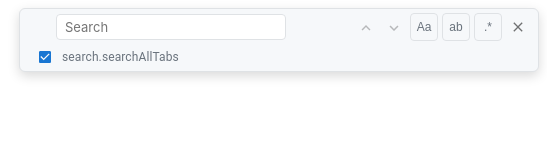
Scenario: SearchReplacePanel › T-SR-08: cross-tab search shows per-tab match counts
The image size is (547, 165).
Type "world" into the field with placeholder "Search" at (171, 27), box left=56, top=14, right=286, bottom=40
Wait 200 ms
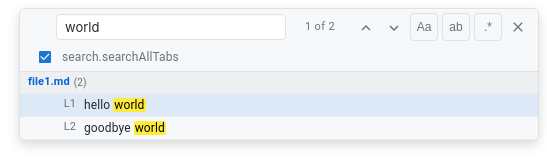
expect the text "1 of 2" is shown: met, box left=305, top=20, right=335, bottom=33
expect the text "(2)" is shown: met, box left=74, top=75, right=87, bottom=90
